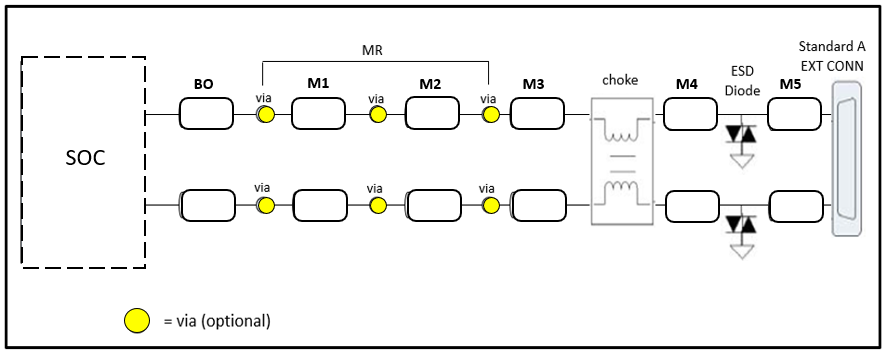choke: (585, 107, 659, 149), (584, 177, 659, 218)
circle: (254, 105, 274, 125), (479, 197, 502, 214), (480, 108, 501, 125), (255, 197, 274, 215), (367, 196, 386, 214), (371, 107, 387, 123)
diode: (723, 121, 760, 172), (725, 211, 760, 259)
dotted_rectangle: (19, 52, 149, 275)
oval: (175, 187, 237, 224), (177, 95, 236, 132), (292, 189, 351, 225), (661, 94, 719, 130), (767, 97, 823, 132), (664, 189, 721, 223), (403, 189, 461, 222), (292, 98, 348, 132), (509, 97, 566, 130), (509, 189, 566, 221), (770, 190, 825, 223), (405, 97, 459, 130)
rectangle: (829, 80, 864, 237)
